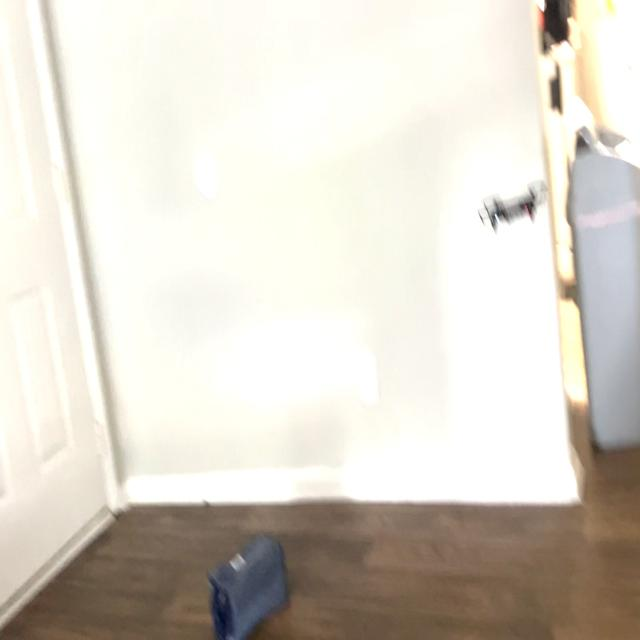drone: (463, 172, 552, 242)
